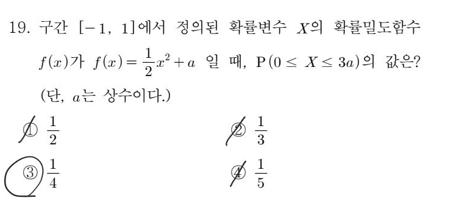1: (3, 153, 43, 201)
paper: (21, 121, 39, 140), (21, 162, 39, 181), (229, 120, 247, 139), (229, 162, 247, 181)
